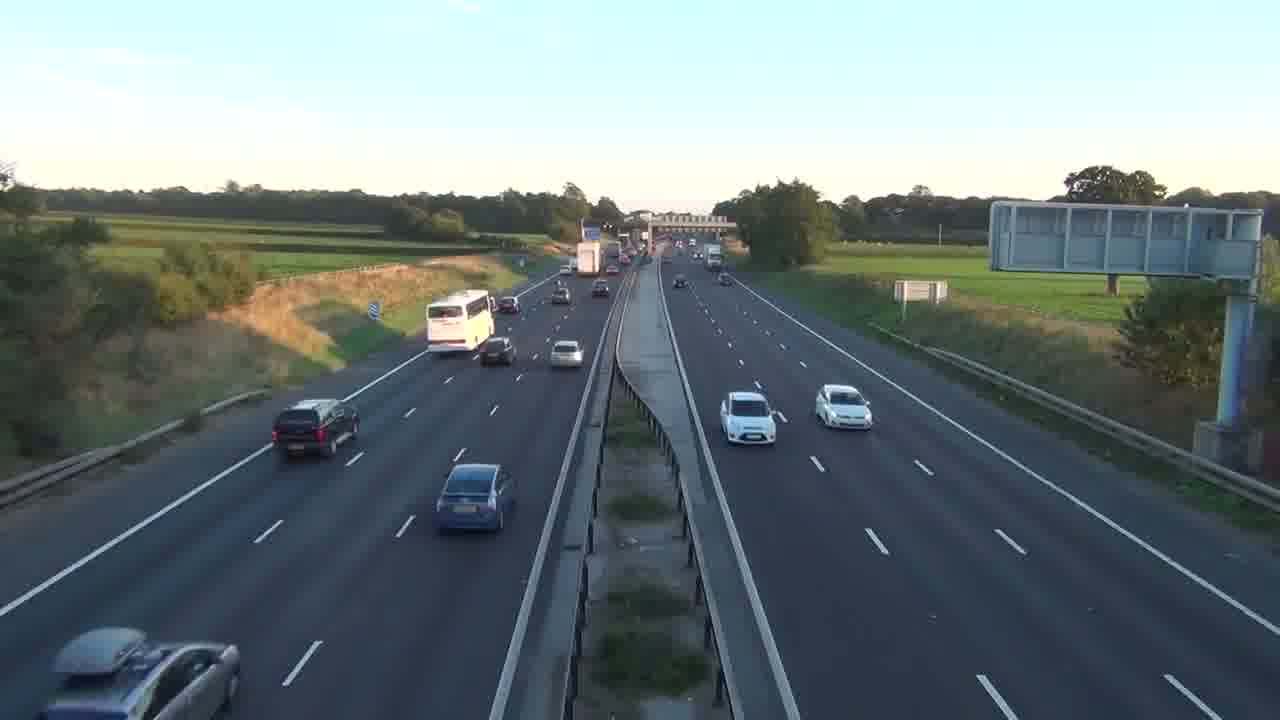bus: (425, 289, 496, 351)
car: (34, 625, 240, 718), (433, 462, 518, 533), (719, 390, 778, 447), (814, 383, 875, 431), (475, 336, 516, 367), (550, 338, 584, 368), (590, 280, 610, 298), (672, 276, 688, 289)
truck: (270, 397, 359, 460)
